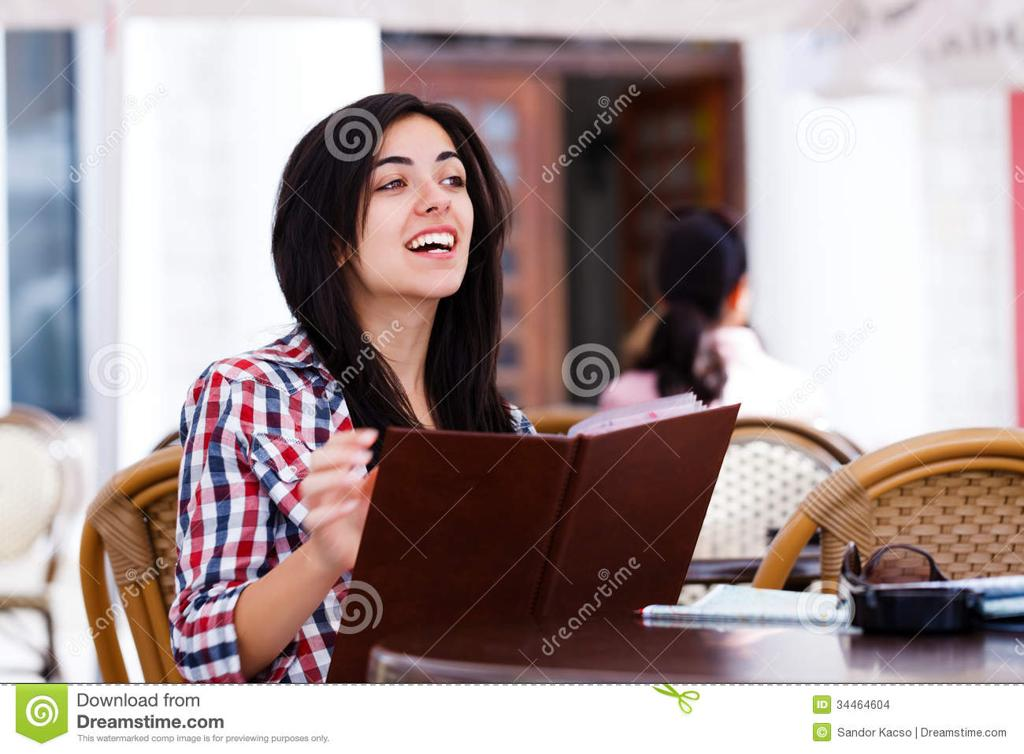face: (354, 112, 478, 292)
